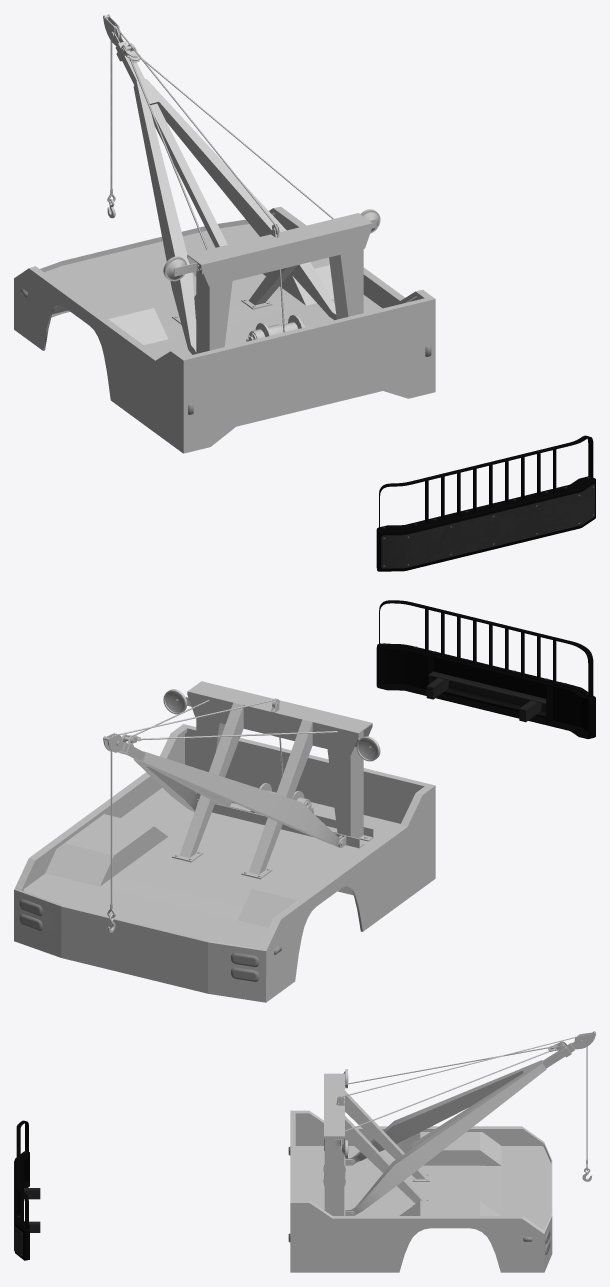
Rendered from pickup_tow.DAE.
3 renders of one model, top to bottom at view 1: azimuth 30°, elevation 25°; view 2: azimuth 150°, elevation 25°; view 3: azimuth 270°, elevation 25°, orthographic. The views are drawn at different scales.
Visible parts, largest first — view 1: pickup_towbed, pickup_pushbumper_F, pickup_towbed_boom, pickup_pushbumper_F_upper, pickup_towbed_boom_end, pickup_towbed_cable, pickup_towbed_pulleycable; view 2: pickup_towbed, pickup_pushbumper_F, pickup_towbed_boom, pickup_pushbumper_F_upper, pickup_pushbumper_F_inner, pickup_towbed_boom_end, pickup_towbed_cable, pickup_towbed_lights_RR, pickup_towbed_pulleycable, pickup_towbed_lights_RL; view 3: pickup_towbed, pickup_towbed_boom, pickup_pushbumper_F, pickup_towbed_boom_end, pickup_pushbumper_F_upper, pickup_towbed_pulleycable, pickup_towbed_cable.
Boxes of the visible parts, bbox=[...] form: pickup_towbed: bbox=[14, 207, 435, 453]; pickup_pushbumper_F: bbox=[376, 476, 595, 571]; pickup_towbed_boom: bbox=[133, 79, 336, 354]; pickup_pushbumper_F_upper: bbox=[379, 435, 593, 530]; pickup_towbed_boom_end: bbox=[103, 14, 227, 247]; pickup_towbed_cable: bbox=[107, 25, 284, 332]; pickup_towbed_pulleycable: bbox=[129, 57, 333, 249]; pickup_towbed: bbox=[14, 681, 435, 1002]; pickup_pushbumper_F: bbox=[376, 644, 595, 738]; pickup_towbed_boom: bbox=[133, 751, 344, 847]; pickup_pushbumper_F_upper: bbox=[379, 600, 593, 697]; pickup_pushbumper_F_inner: bbox=[426, 671, 546, 722]; pickup_towbed_boom_end: bbox=[103, 733, 231, 807]; pickup_towbed_cable: bbox=[107, 699, 283, 917]; pickup_towbed_lights_RR: bbox=[231, 952, 259, 981]; pickup_towbed_pulleycable: bbox=[133, 700, 337, 740]; pickup_towbed_lights_RL: bbox=[19, 899, 42, 930]; pickup_towbed: bbox=[290, 1073, 552, 1272]; pickup_towbed_boom: bbox=[349, 1060, 546, 1215]; pickup_pushbumper_F: bbox=[14, 1151, 29, 1260]; pickup_towbed_boom_end: bbox=[412, 1031, 595, 1147]; pickup_pushbumper_F_upper: bbox=[16, 1120, 28, 1229]; pickup_towbed_pulleycable: bbox=[345, 1047, 555, 1131]; pickup_towbed_cable: bbox=[336, 1036, 587, 1170].
Bounding box in the file's own units: 226 × 593 × 219.
